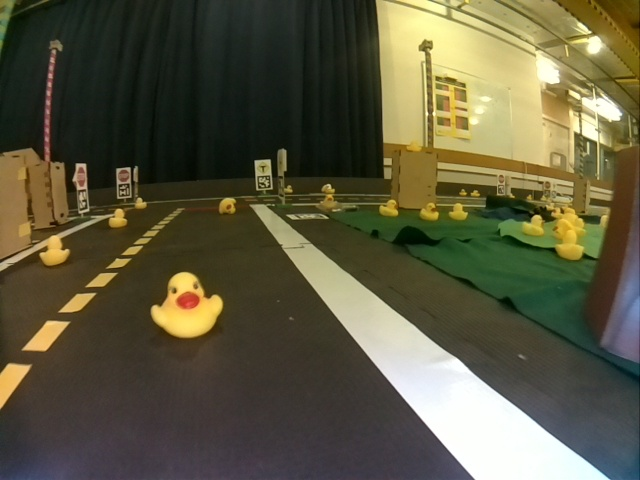Duckie: (152, 273, 222, 338), (40, 236, 69, 265), (555, 232, 584, 260), (522, 214, 544, 236), (420, 203, 439, 220), (449, 203, 467, 220), (379, 200, 398, 216), (109, 210, 126, 226), (220, 198, 236, 214), (321, 196, 337, 207), (135, 198, 146, 209), (286, 185, 293, 193)
Intersection sign: (256, 162, 269, 175)
QR code: (287, 213, 328, 220), (78, 189, 89, 212), (257, 175, 271, 190), (118, 183, 131, 196)
Stop sign: (116, 168, 131, 182), (78, 165, 87, 186)
